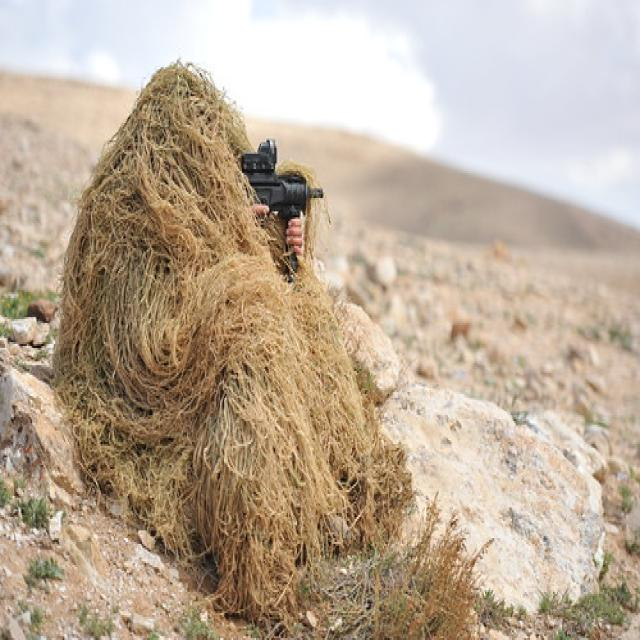Camouflage: (55, 60, 418, 613)
